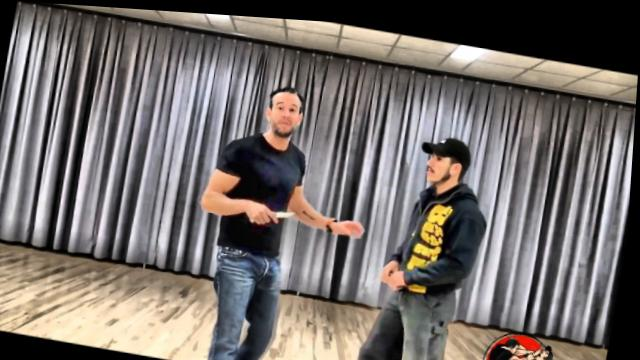knife: (247, 196, 300, 227)
